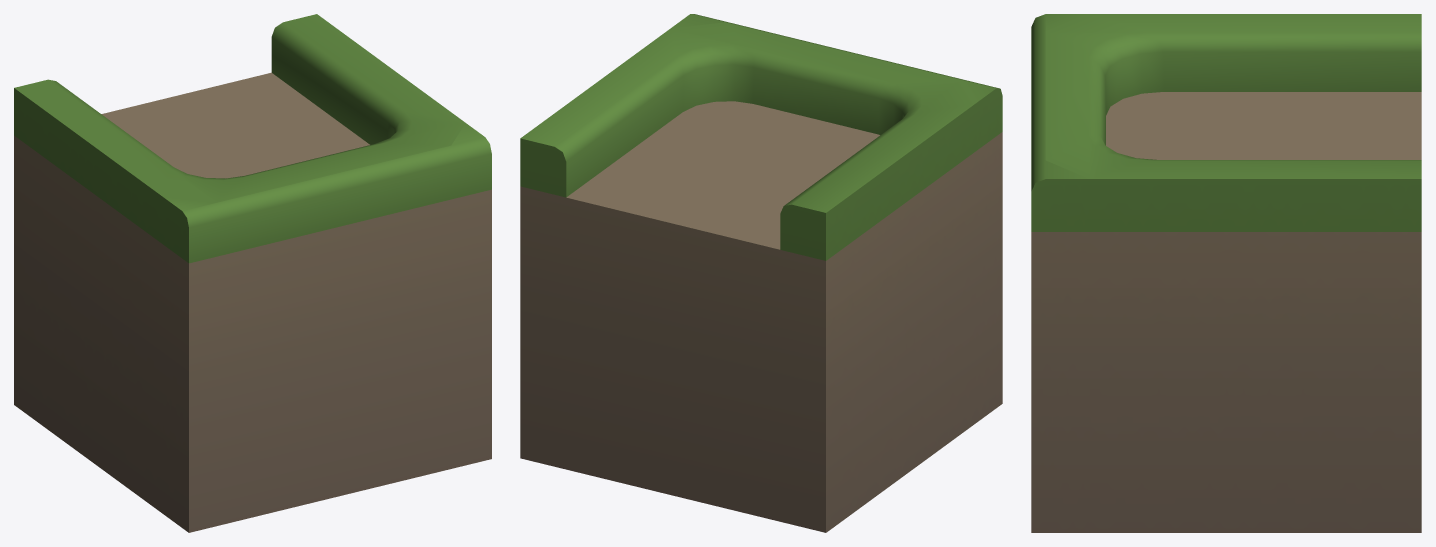
Rendered from road_end.fbx.
3 views of the same model, side by side, from view 1: azimuth 30°, elevation 25°; view 2: azimuth 150°, elevation 25°; view 3: azimuth 270°, elevation 25° (orthographic). The views are drawn at different scales.
Visible parts, largest first — view 1: road_end; view 2: road_end; view 3: road_end.
Part boxes in pixels (x1,y1,x2,y2): road_end: (14, 14, 491, 532); road_end: (520, 14, 1002, 532); road_end: (1031, 14, 1421, 532).
Bounding box in the file's own units: 200 × 200 × 200.
